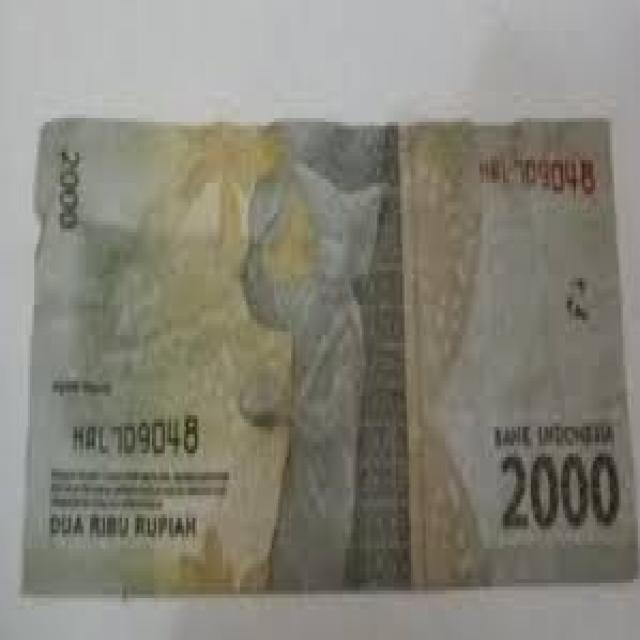dua ribu rupiah: (40, 123, 635, 582)
